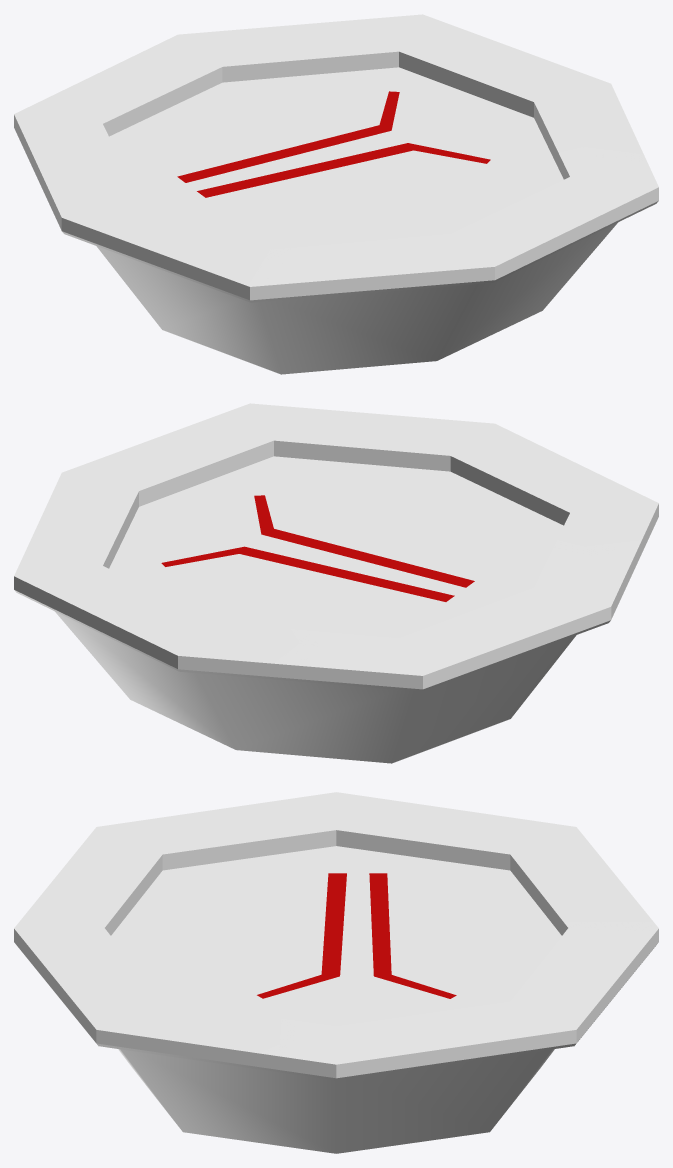
The model's file is Soup_Bowl.glb.
3 renders of one model, top to bottom at view 1: azimuth 30°, elevation 25°; view 2: azimuth 150°, elevation 25°; view 3: azimuth 270°, elevation 25°, orthographic.
Visible parts, largest first — view 1: sushi_bar_soup_geo; view 2: sushi_bar_soup_geo; view 3: sushi_bar_soup_geo.
Boxes of the visible parts, x1,y1,x2,y2 form: sushi_bar_soup_geo: [14, 14, 658, 374]; sushi_bar_soup_geo: [14, 403, 658, 763]; sushi_bar_soup_geo: [14, 792, 658, 1153].
Size of the model in its own units: 0.2888 by 0.0688 by 0.2888.
1 material, 1 textured.
